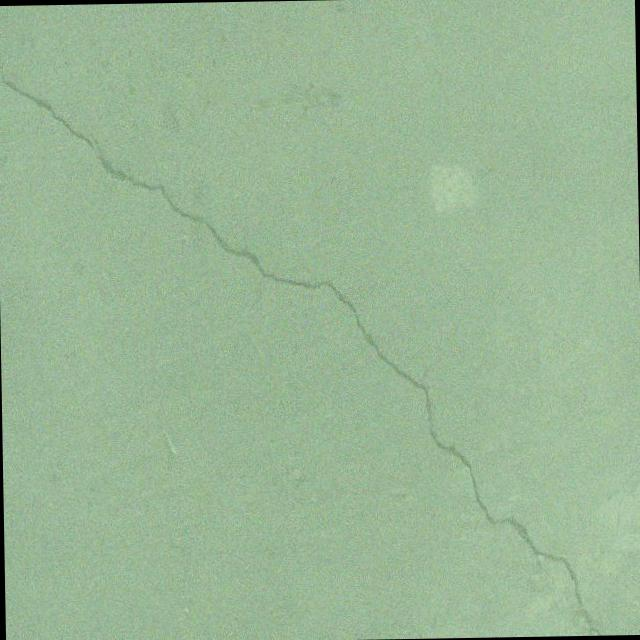crack: (0, 43, 603, 640)
